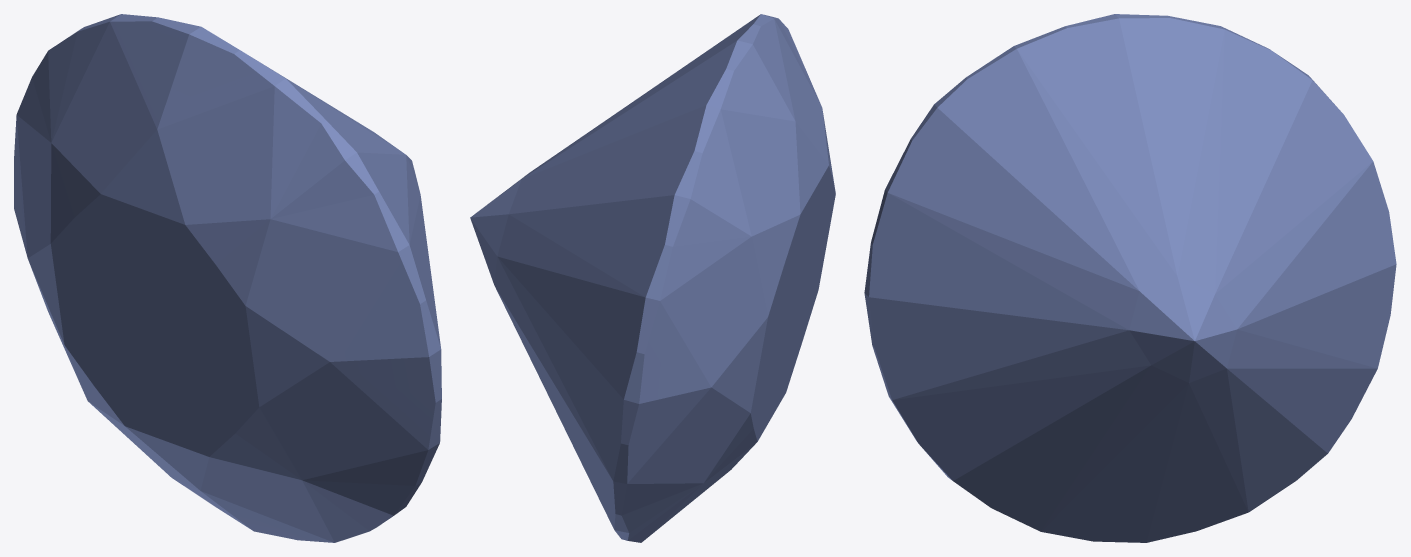
Rendered from TL5_8shapes_Round_Classic_Stone.001 3.glb.
The picture shows the model from 3 angles, left to right: view 1: azimuth 30°, elevation 25°; view 2: azimuth 150°, elevation 25°; view 3: azimuth 270°, elevation 25°; orthographic projection. The views are drawn at different scales.
Visible parts, largest first — view 1: TL5_8shapes_Round_Classic_Stone.001; view 2: TL5_8shapes_Round_Classic_Stone.001; view 3: TL5_8shapes_Round_Classic_Stone.001.
Part boxes in pixels (box(x1,y1,x2,y2)): TL5_8shapes_Round_Classic_Stone.001: box(14, 14, 441, 542); TL5_8shapes_Round_Classic_Stone.001: box(470, 14, 835, 542); TL5_8shapes_Round_Classic_Stone.001: box(864, 14, 1396, 542).
Bounding box in the file's own units: 0.3366 × 0.4957 × 0.4866.
